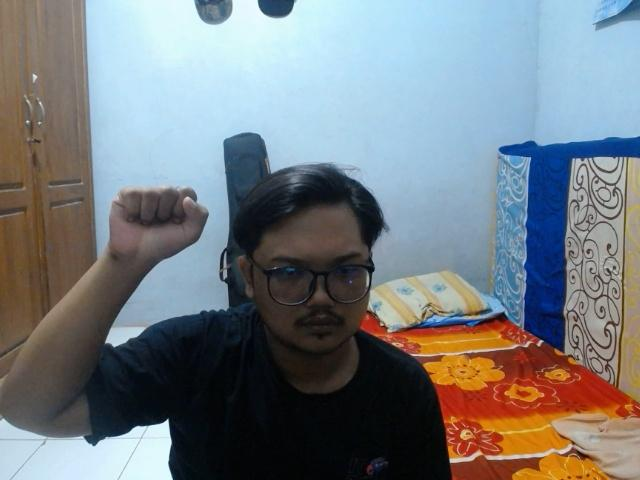Grab: (107, 183, 213, 270)
